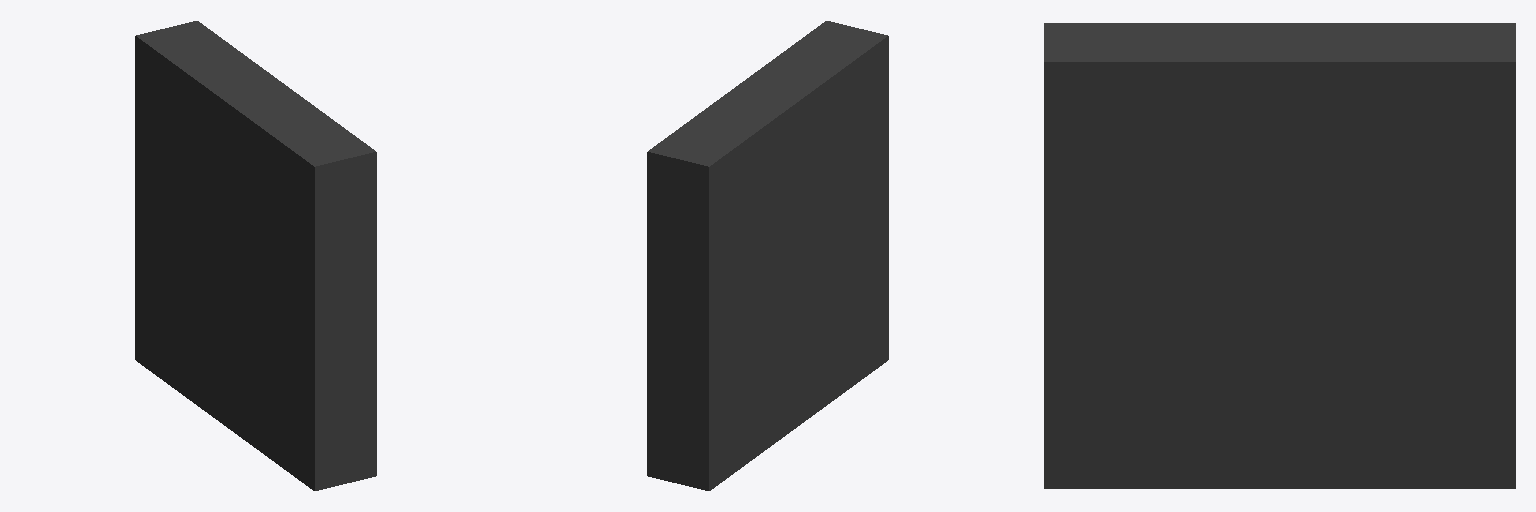
robot.urdf — box:
<?xml version='1.0' encoding='UTF-8'?>
<robot name="box">
  <link name="base_link">
    <inertial>
      <origin xyz="0.0 0.0 0.0" rpy="0.0 -0.0 0.0"/>
      <mass value="1.0"/>
      <inertia ixx="1.0" ixy="0.0" ixz="0.0" iyy="1.0" iyz="0.0" izz="1.0"/>
    </inertial>
    <visual name="base_link_visual">
      <geometry>
        <box size="0.1 0.5 0.5"/>
      </geometry>
      <material name="base_link_color">
        <color rgba="0.3 0.3 0.3 1"/>
      </material>
      <origin xyz="0 0 0" rpy="0 0 0"/>
    </visual>
    <collision name="base_link_collision">
      <geometry>
        <box size="0.1 0.5 0.5"/>
      </geometry>
      <origin xyz="0 0 0" rpy="0 0 0"/>
    </collision>
  </link>
</robot>

--- Render facts (derived) ---
Views: 3 orthographic renders of the robot side by side, from view 1: azimuth 30°, elevation 25°; view 2: azimuth 150°, elevation 25°; view 3: azimuth 270°, elevation 25°.
Model box with 1 links and 0 joints (none), rooted at base_link, posed every joint at zero.
Visible links, largest first — view 1: base_link; view 2: base_link; view 3: base_link.
Link boxes in pixels (left/top/right/bottom): base_link: left=135, top=21, right=376, bottom=490; base_link: left=647, top=21, right=888, bottom=490; base_link: left=1044, top=23, right=1515, bottom=488.
Bounding box of the posed robot: 0.1 × 0.5 × 0.5 m (x, y, z).
Geometry: primitives only (box / cylinder / sphere), no mesh files.